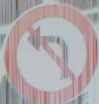Don't turn left: (9, 3, 89, 94)
